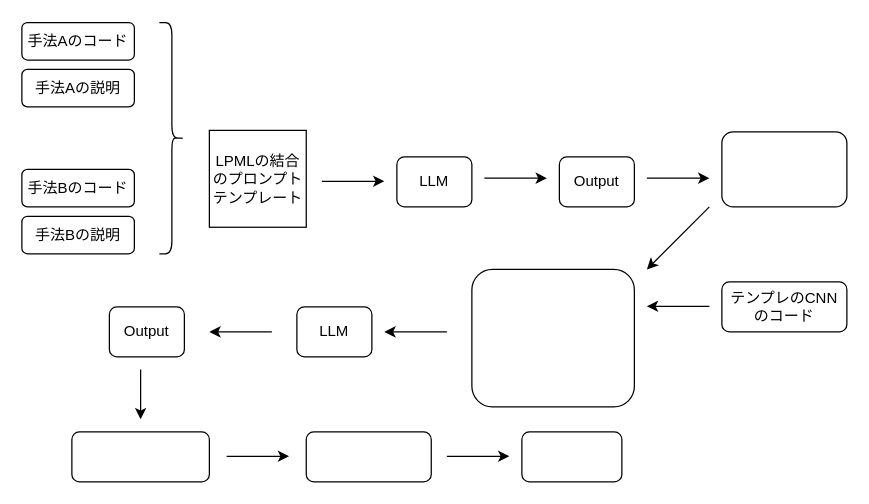
This 869x504 diagram has some shape labels left out. The shapes that lost their labels are listed below. From the top down, each one's centre as x and y in pixels, then its label:
At point (784, 169): "結合したA+Bの 手法のコードだけ抜き出す".
At point (552, 337): "LPMLの結合のプロンプトテンプレート or 普通のプロンプト を使い精度検証を 行えるコードに編集".
At point (140, 456): "精度検証のためのコードだけ抜き出す".
At point (368, 456): "AutoRes Evaluator".
At point (571, 456): "手法の精度".
